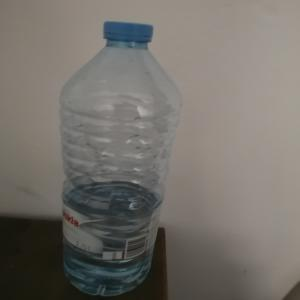Plastic-bottle: (59, 20, 186, 299)
